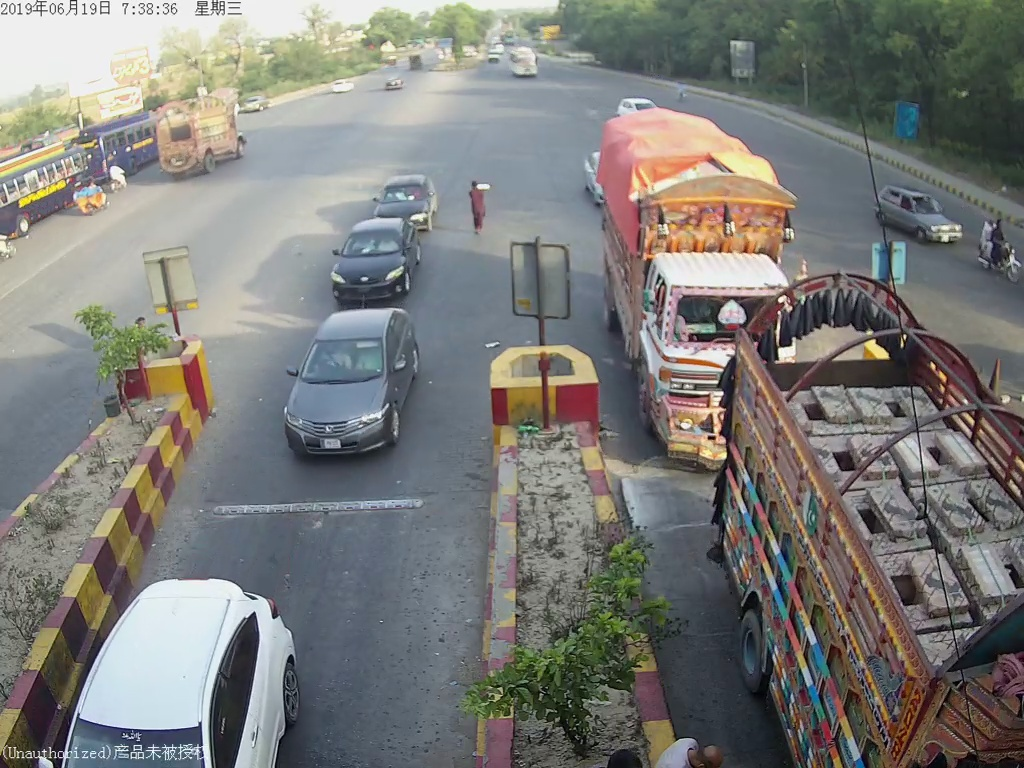Cat-1: (286, 303, 418, 455), (330, 209, 418, 298), (879, 181, 962, 251), (373, 172, 440, 225)
Cat-4: (605, 117, 798, 465)
